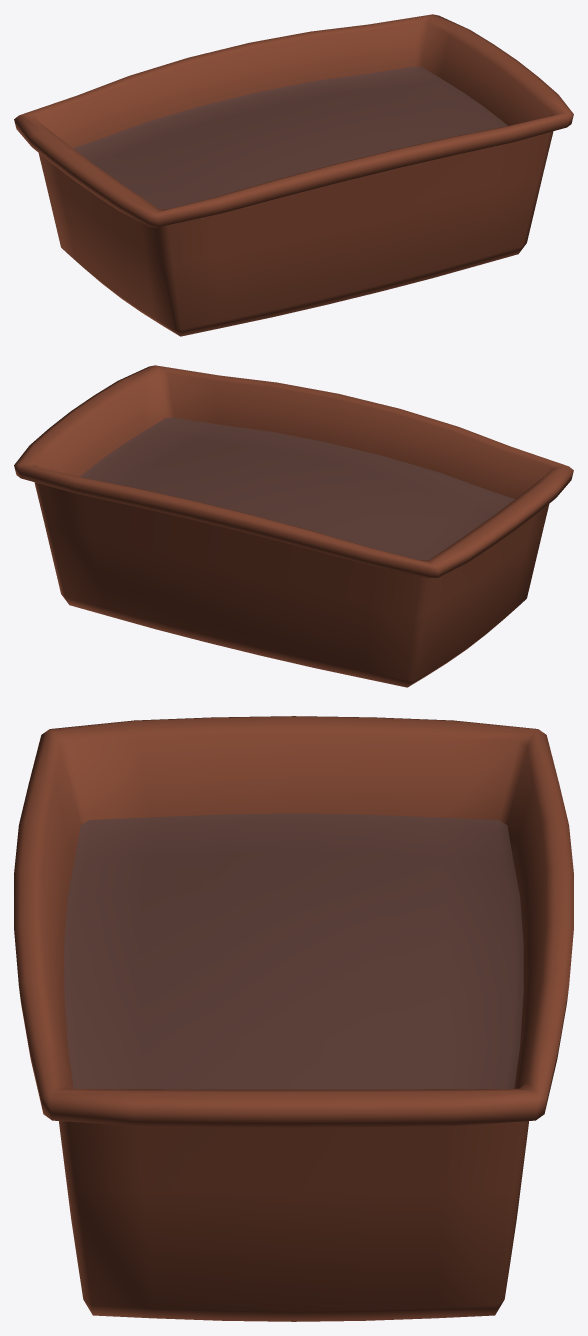
Rendered from props_flowerBed.fbx.
3 views of the same model, one above another, from view 1: azimuth 30°, elevation 25°; view 2: azimuth 150°, elevation 25°; view 3: azimuth 270°, elevation 25° (orthographic). The views are drawn at different scales.
Parts seen in each view (by area): view 1: BacFleur.001; view 2: BacFleur.001; view 3: BacFleur.001.
Part boxes in pixels (x1,y1,x2,y2): BacFleur.001: (14,14,573,336); BacFleur.001: (14,365,573,687); BacFleur.001: (14,716,573,1321).
Bounding box in the file's own units: 0.7421 × 0.4449 × 0.2409.
